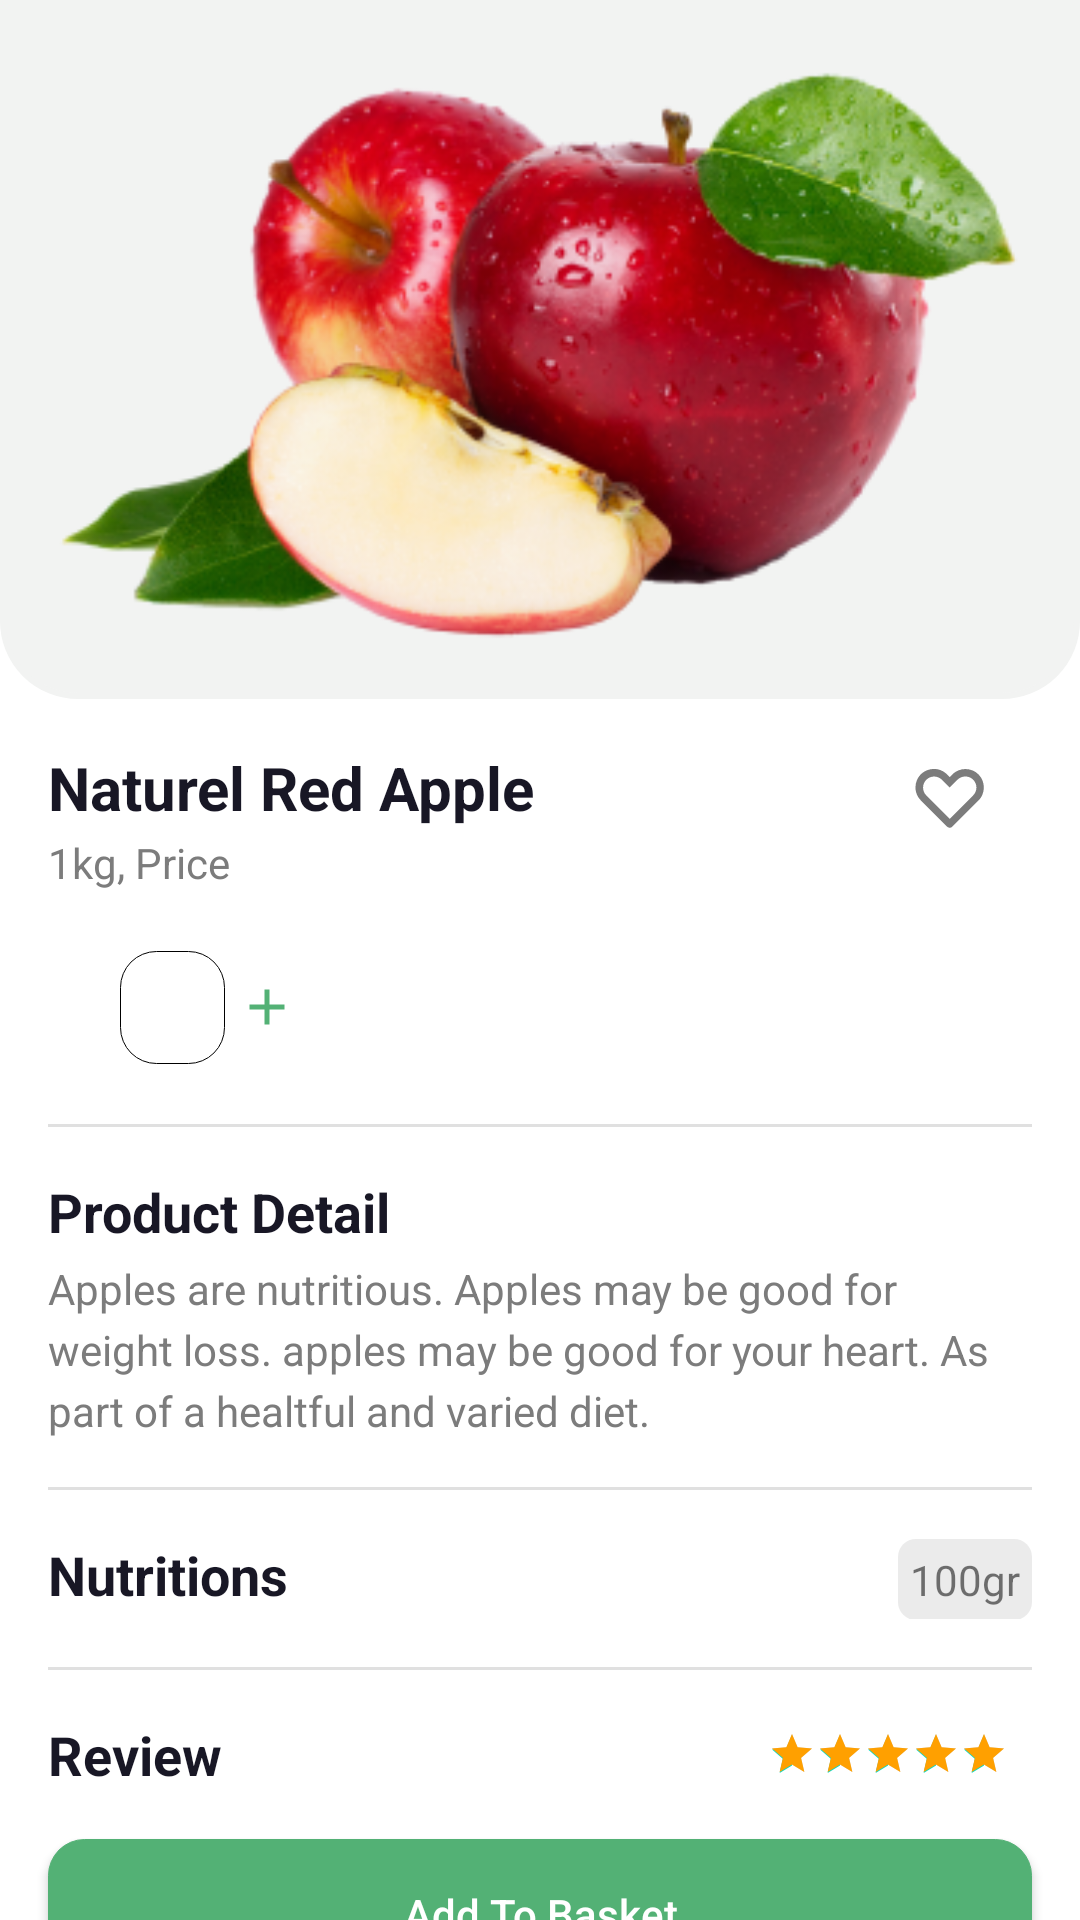

Icon bounding boxes for this 1080px x 1920px phone screenshot, format (x1, y1, x2, y2):
add: (249, 989, 285, 1025)
like: (915, 769, 984, 828)
